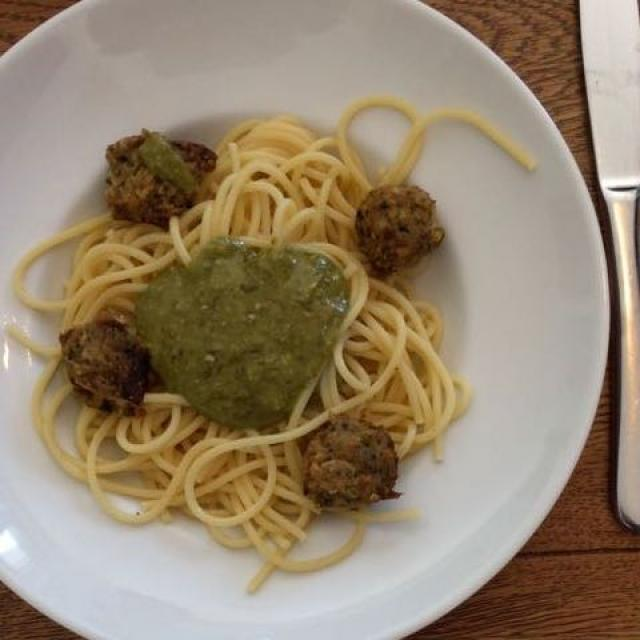hamburger: (51, 126, 446, 525)
pasta: (29, 118, 465, 574)
sauce: (125, 248, 373, 445)
